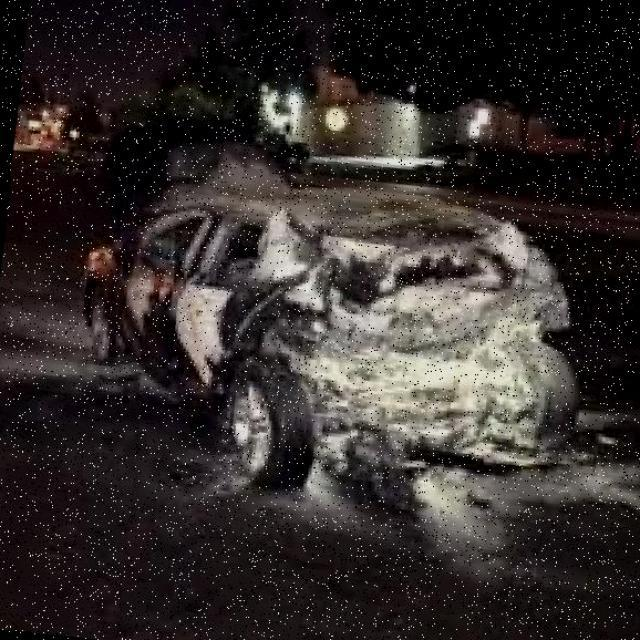accident: (33, 98, 640, 559)
